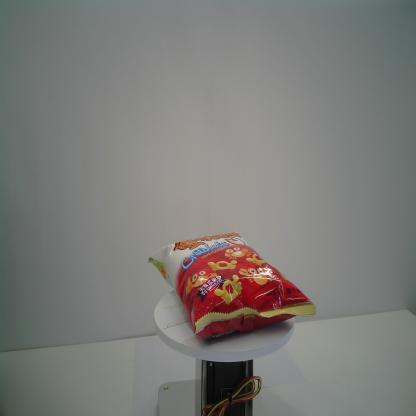Puffed Food: (147, 230, 317, 342)
